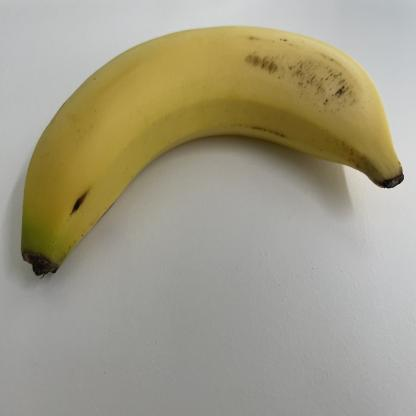banana: (20, 21, 402, 278)
